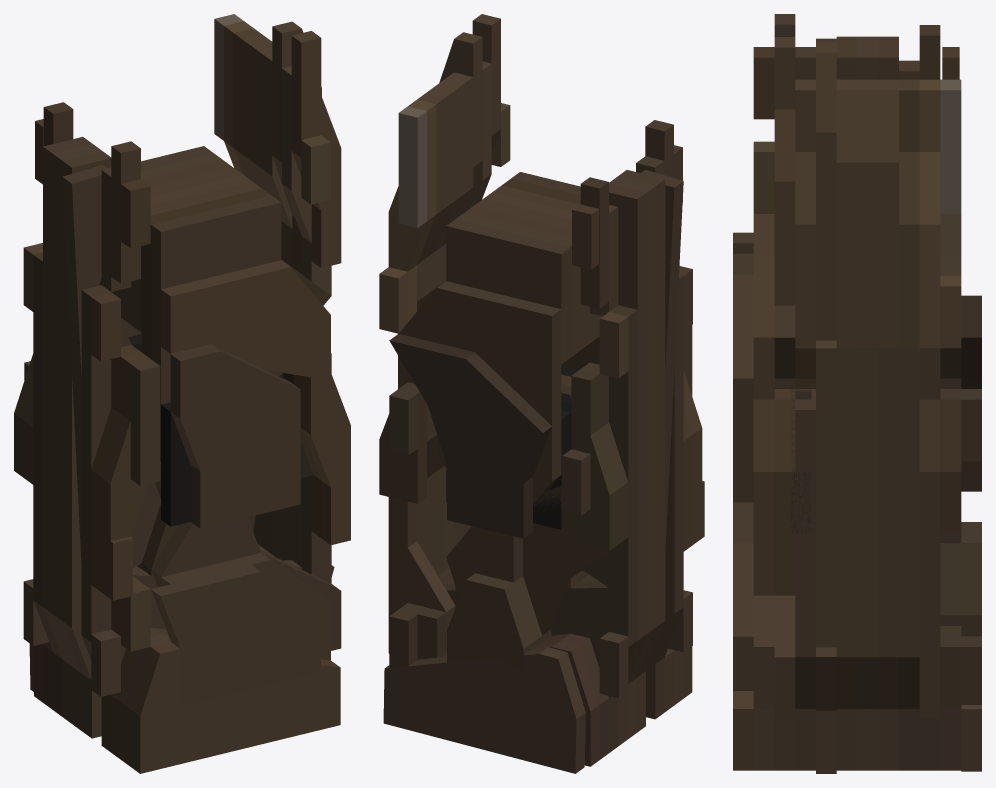
File: result.glb
3 renders of one model, left to right at view 1: azimuth 30°, elevation 25°; view 2: azimuth 150°, elevation 25°; view 3: azimuth 270°, elevation 25°, orthographic. The views are drawn at different scales.
Size of the model in its own units: 0.7318 by 1.81 by 0.5594.
